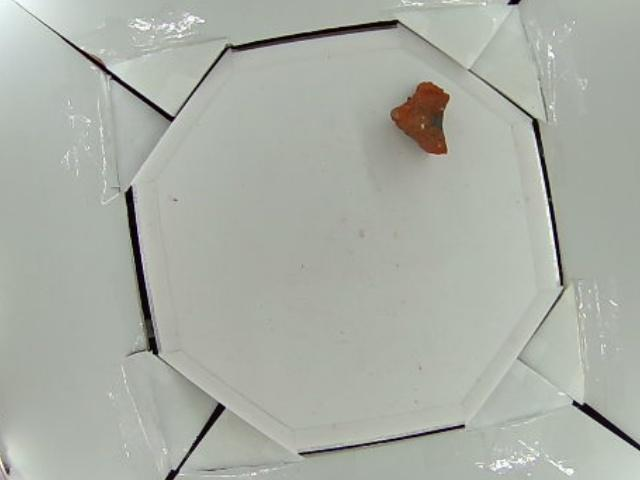Brisk: (390, 82, 449, 155)
